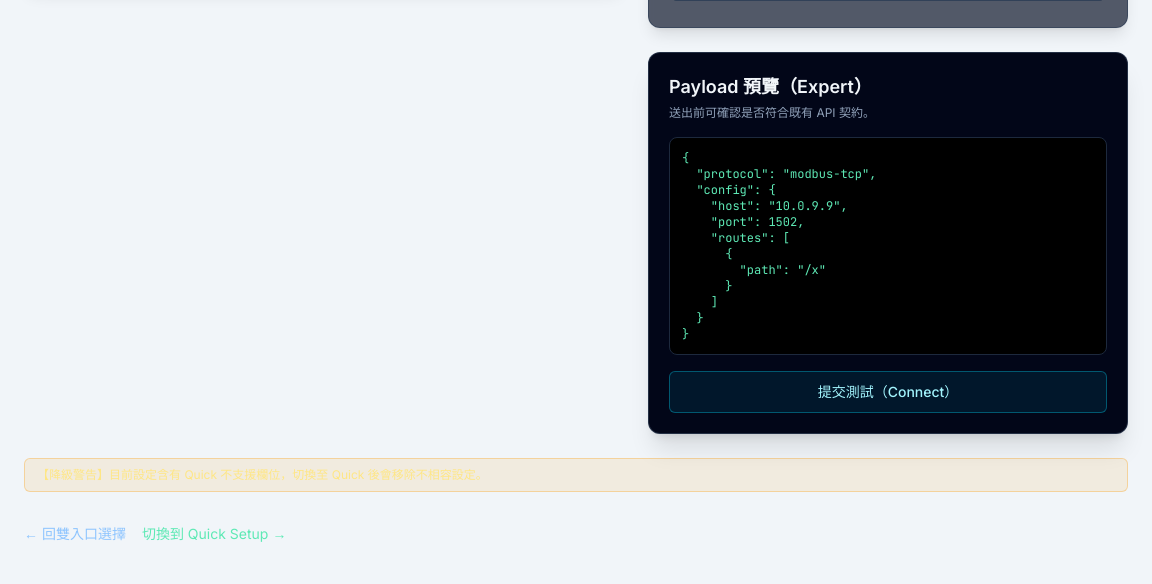
GatewayExpertWorkbenchPage › downgrades and switches to quick after confirm
(page scrolled)
Click the link with test id "expert-switch-quick-link": (214,534) [142, 524, 286, 544]
(page scrolled)
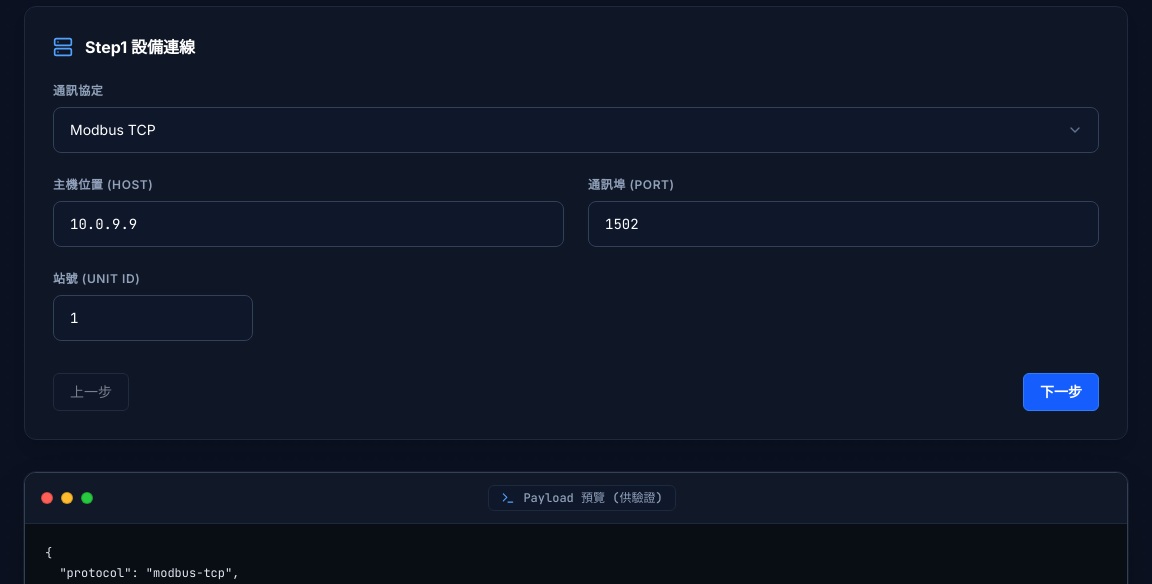
Expected: the field with test id "host-input" holds "10.0.9.9", [53, 201, 564, 247]
